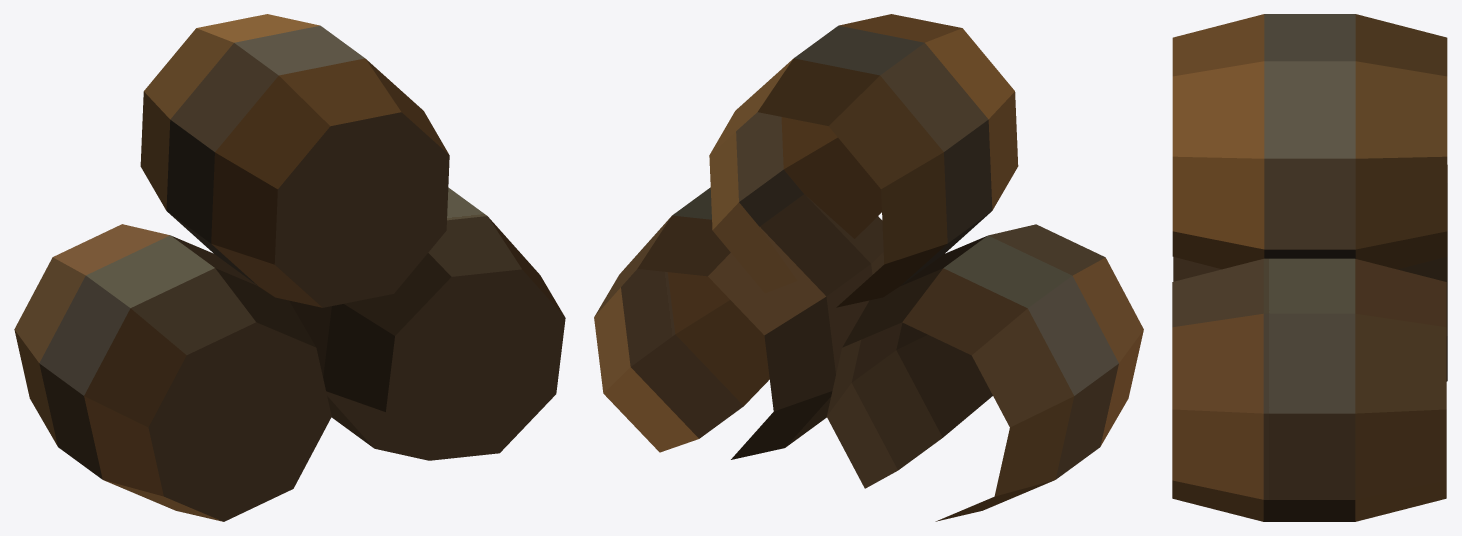
Rendered from village-decor02.fbx.
The picture shows the model from 3 angles, left to right: view 1: azimuth 30°, elevation 25°; view 2: azimuth 150°, elevation 25°; view 3: azimuth 270°, elevation 25°; orthographic projection. The views are drawn at different scales.
Visible parts, largest first — view 1: village-decor02; view 2: village-decor02; view 3: village-decor02.
Part boxes in pixels (x1=…): village-decor02: x1=14, y1=14, x2=565, y2=521; village-decor02: x1=594, y1=14, x2=1143, y2=521; village-decor02: x1=1172, y1=14, x2=1447, y2=521.
Size of the model in its own units: 0.8469 by 0.7286 by 0.4332.
1 material, 1 textured.
